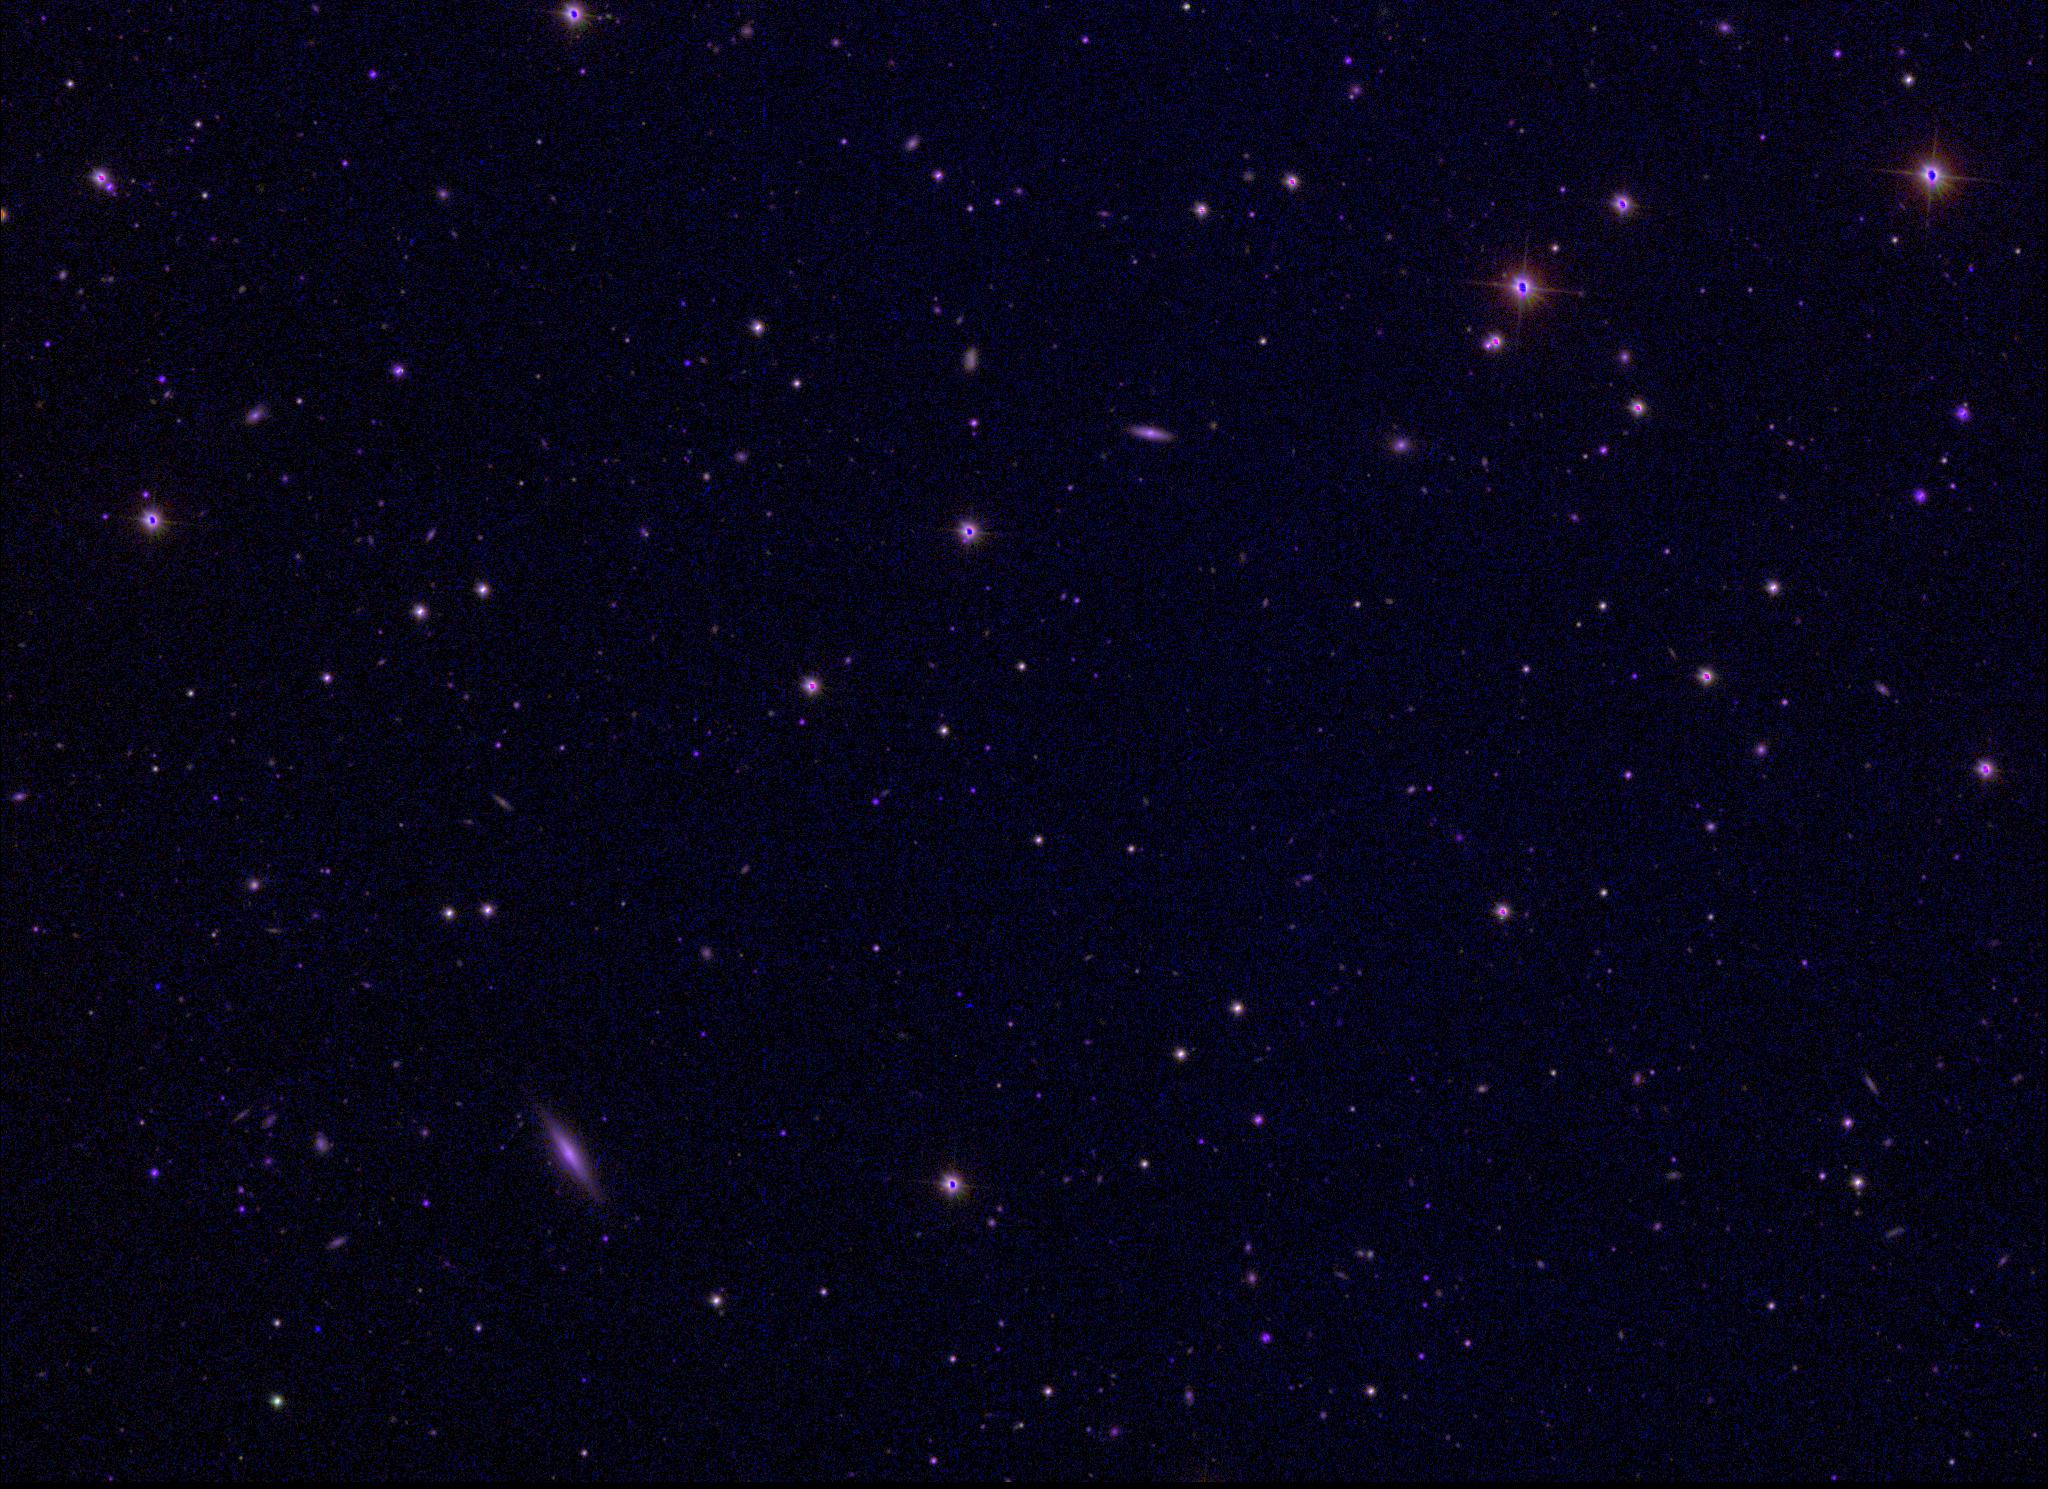L: (312, 1322, 324, 1336), (153, 978, 165, 993)
